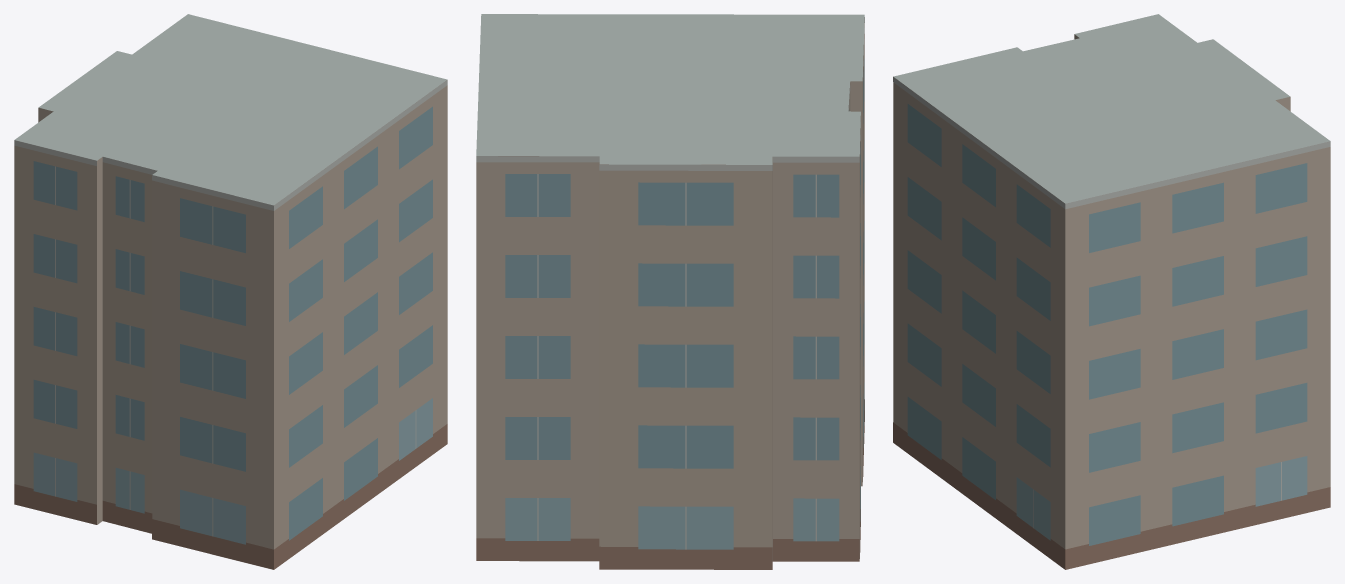
File: survey-upis-32906447.glb
3 renders of one model, left to right at view 1: azimuth 30°, elevation 25°; view 2: azimuth 150°, elevation 25°; view 3: azimuth 270°, elevation 25°, orthographic. The views are drawn at different scales.
Visible parts, largest first — view 1: survey-upis-32906447.tmp; view 2: survey-upis-32906447.tmp; view 3: survey-upis-32906447.tmp.
Boxes of the visible parts, <box> form: survey-upis-32906447.tmp: <box>14,14,447,569</box>; survey-upis-32906447.tmp: <box>476,14,864,569</box>; survey-upis-32906447.tmp: <box>893,14,1330,569</box>.
Size of the model in its own units: 17.9 by 16.1 by 17.44.
